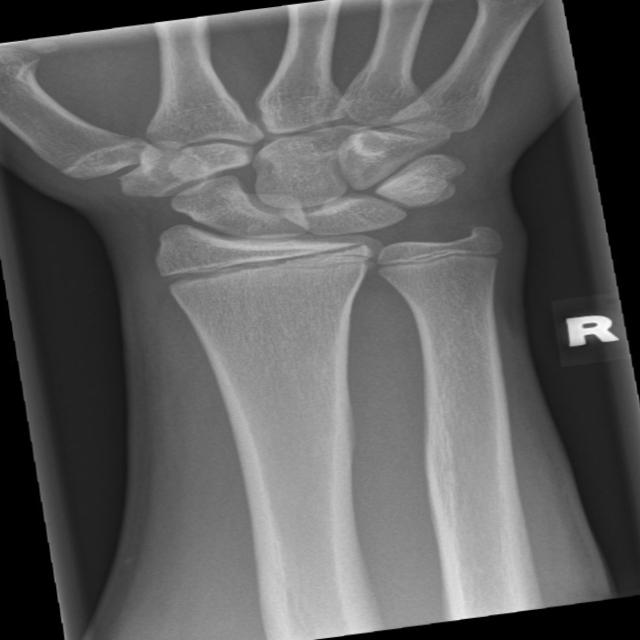fracture: (146, 232, 389, 298), (358, 235, 515, 282)
